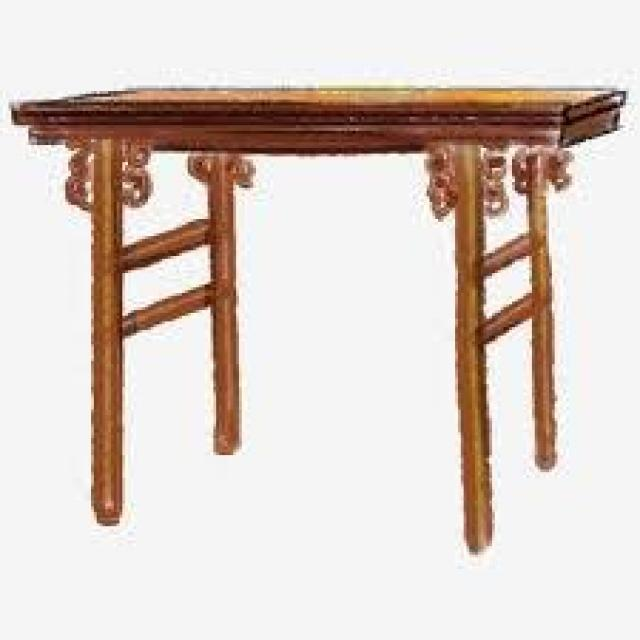table: (4, 36, 622, 564)
